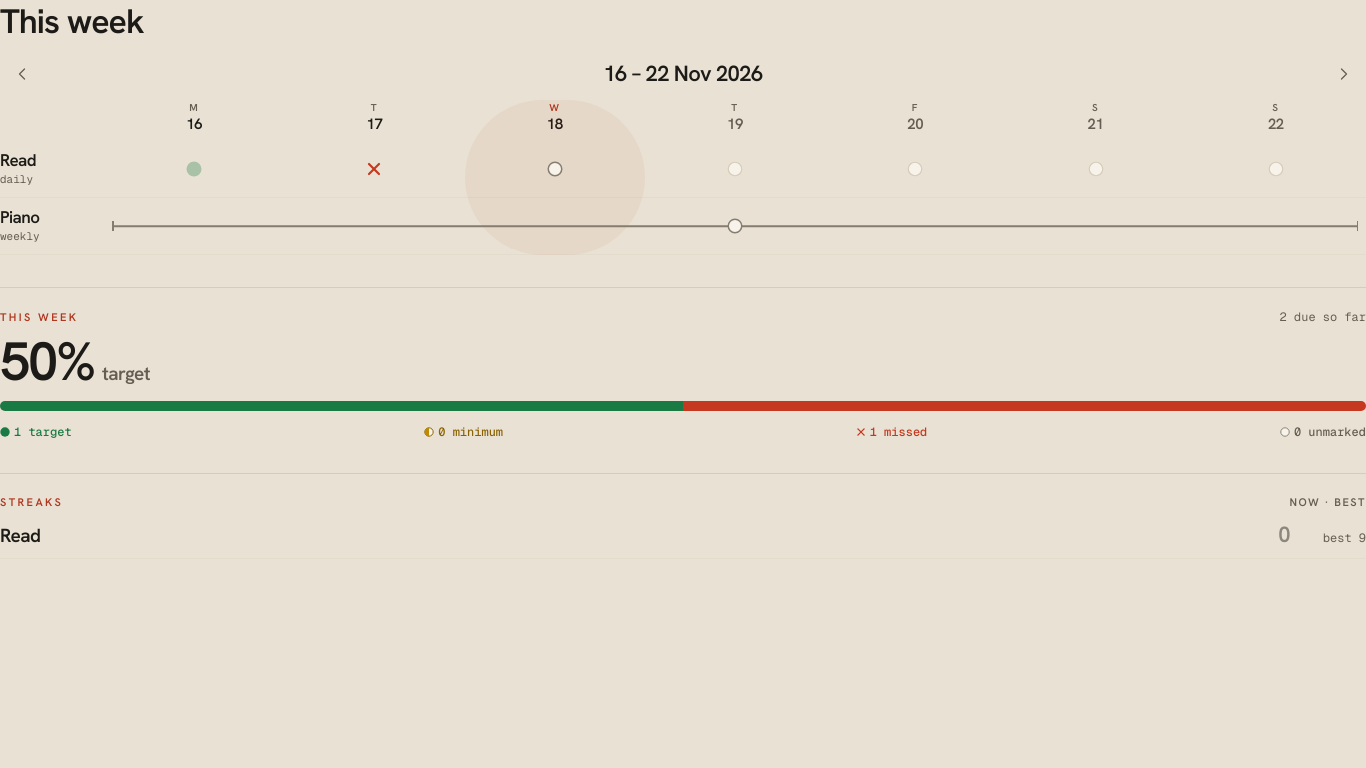
Test: WeekPanel › shows the streak, without a countdown for a past day
Click the button named "Read, Mon 16 Nov, Target hit".
click(194, 169)  # box [104, 147, 284, 191]
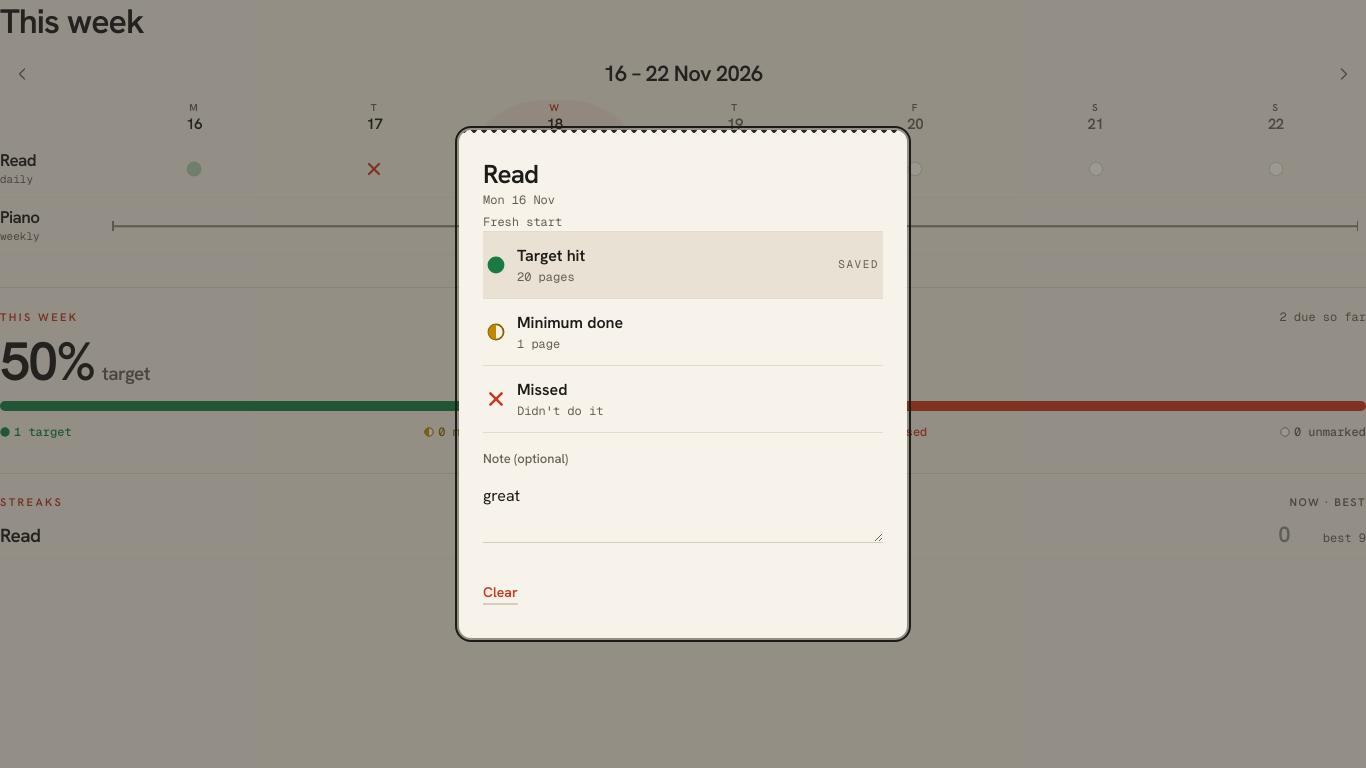
Expected: the dialog shows "Fresh start", [483, 214, 562, 230]
